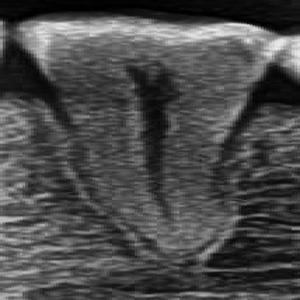tooth: (17, 15, 275, 244)
